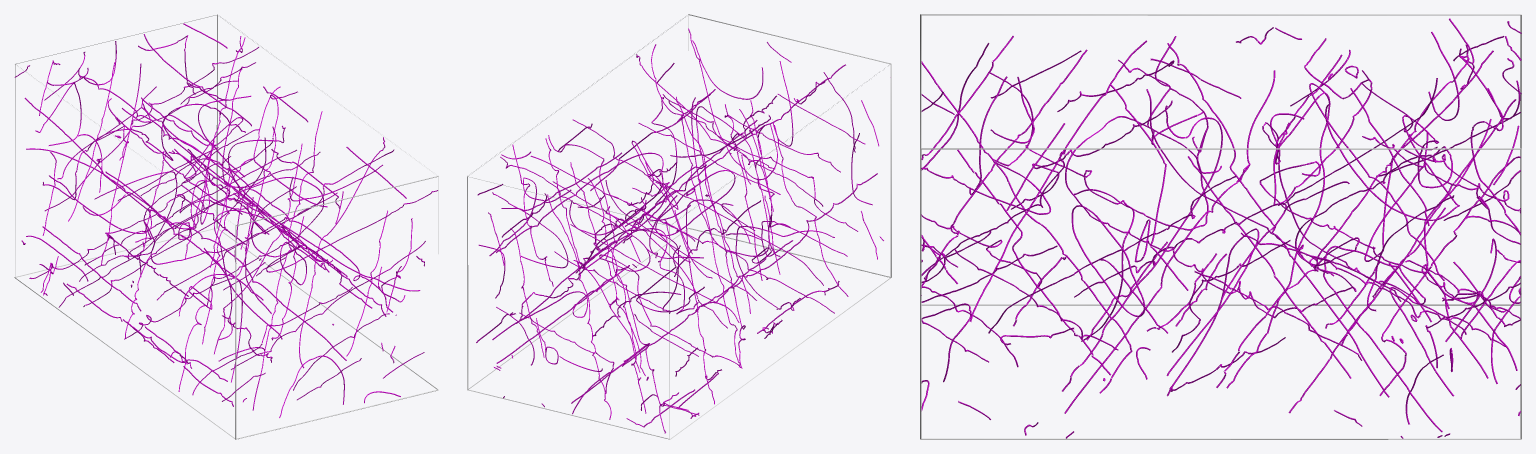
3 views of the same model, side by side, from view 1: azimuth 30°, elevation 25°; view 2: azimuth 150°, elevation 25°; view 3: azimuth 270°, elevation 25° (orthographic). The views are drawn at different scales.
Parts seen in each view (by area): view 1: Shape_IndexedLineSet.001, Shape_IndexedLineSet; view 2: Shape_IndexedLineSet.001, Shape_IndexedLineSet; view 3: Shape_IndexedLineSet.001, Shape_IndexedLineSet.
Part boxes in pixels (x1,y1,x2,y2): Shape_IndexedLineSet.001: (14,23,437,417); Shape_IndexedLineSet: (14,14,438,439); Shape_IndexedLineSet.001: (476,28,890,433); Shape_IndexedLineSet: (467,14,891,439); Shape_IndexedLineSet.001: (921,18,1521,438); Shape_IndexedLineSet: (920,14,1521,439).
Bounding box in the file's own units: 237 × 239 × 447.
